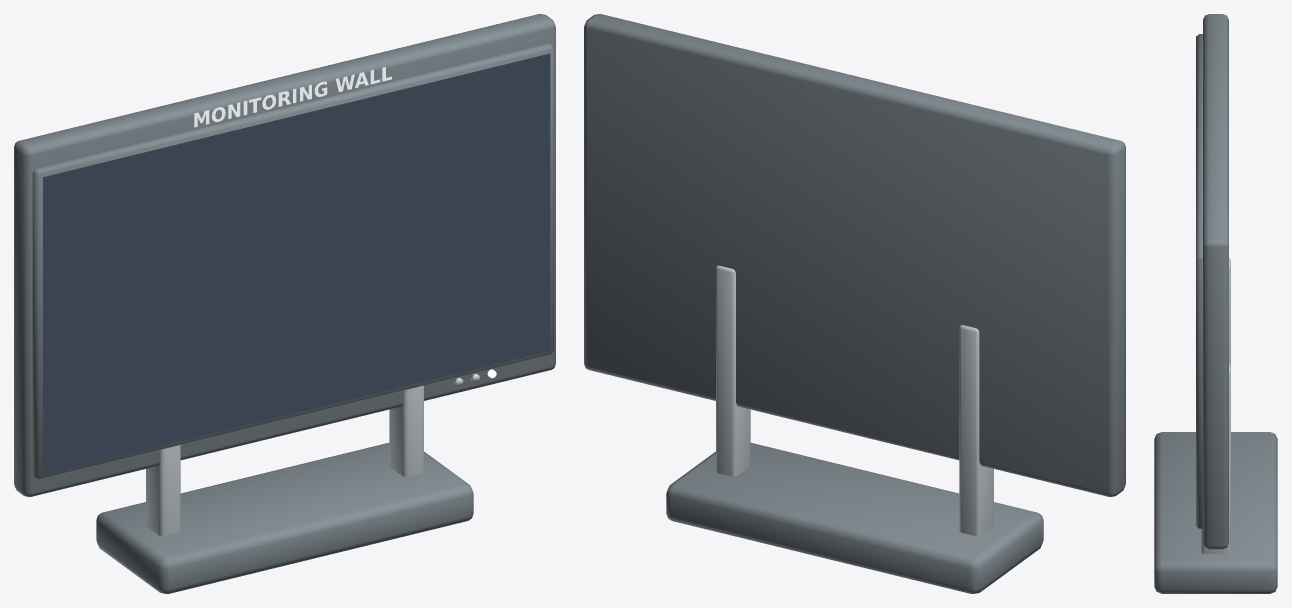
File: monitoring_wall_enhanced.glb
The picture shows the model from 3 angles, left to right: view 1: azimuth 30°, elevation 25°; view 2: azimuth 150°, elevation 25°; view 3: azimuth 270°, elevation 25°; orthographic projection. The views are drawn at different scales.
Parts seen in each view (by area): view 1: LiveViewSurface_glass, DisplayHousing_frame, Base_frame, LiveViewSurfaceFrame_frame, Support_steel, TypeLabel_white; view 2: DisplayHousing_frame, Base_frame, Support_steel; view 3: Base_frame, DisplayHousing_frame, LiveViewSurfaceFrame_frame, Support_steel.
Boxes of the visible parts, x1,y1,x2,y2 form: LiveViewSurface_glass: (43, 53, 550, 474); DisplayHousing_frame: (14, 14, 555, 496); Base_frame: (96, 443, 473, 593); LiveViewSurfaceFrame_frame: (32, 43, 553, 479); Support_steel: (146, 385, 423, 536); TypeLabel_white: (194, 67, 391, 127); DisplayHousing_frame: (584, 14, 1125, 496); Base_frame: (666, 443, 1043, 593); Support_steel: (716, 265, 993, 536); Base_frame: (1154, 432, 1277, 593); DisplayHousing_frame: (1203, 14, 1228, 549); LiveViewSurfaceFrame_frame: (1196, 34, 1202, 529); Support_steel: (1201, 258, 1230, 553).
Bounding box in the file's own units: 2.73 × 2.23 × 0.62.
